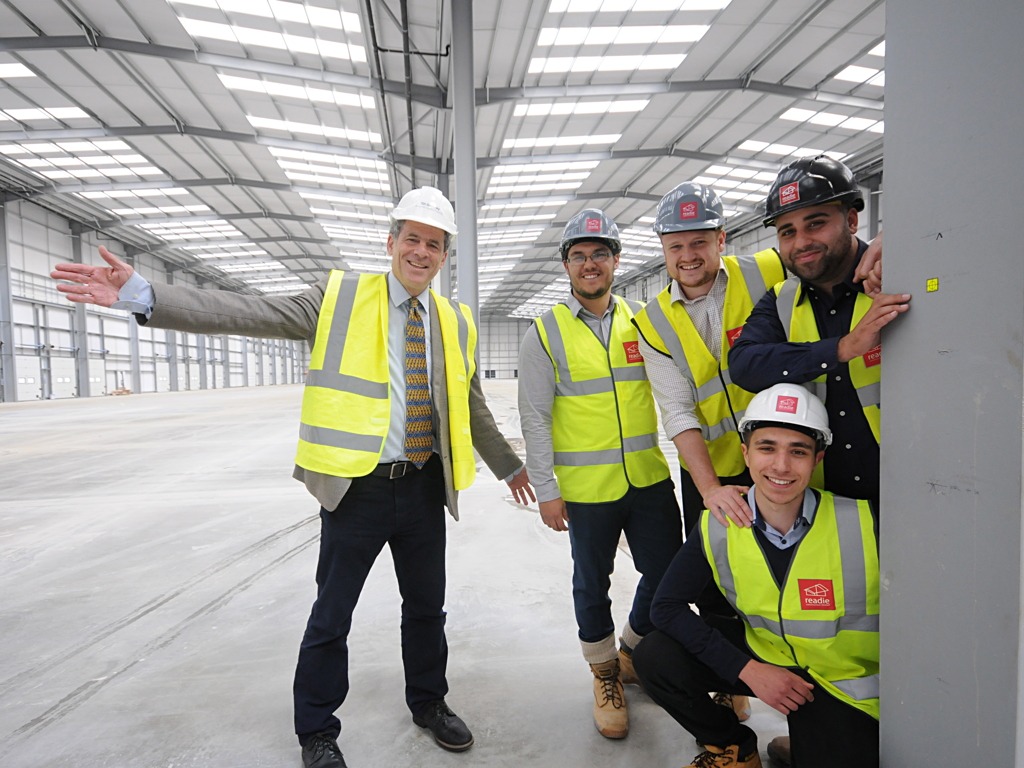Helmet: (754, 151, 871, 285), (736, 379, 840, 523), (650, 176, 733, 296), (384, 177, 462, 297), (551, 204, 627, 304)
Reflective vest: (292, 263, 482, 505), (701, 487, 890, 725), (637, 247, 787, 473), (527, 296, 673, 507), (774, 252, 890, 441)
